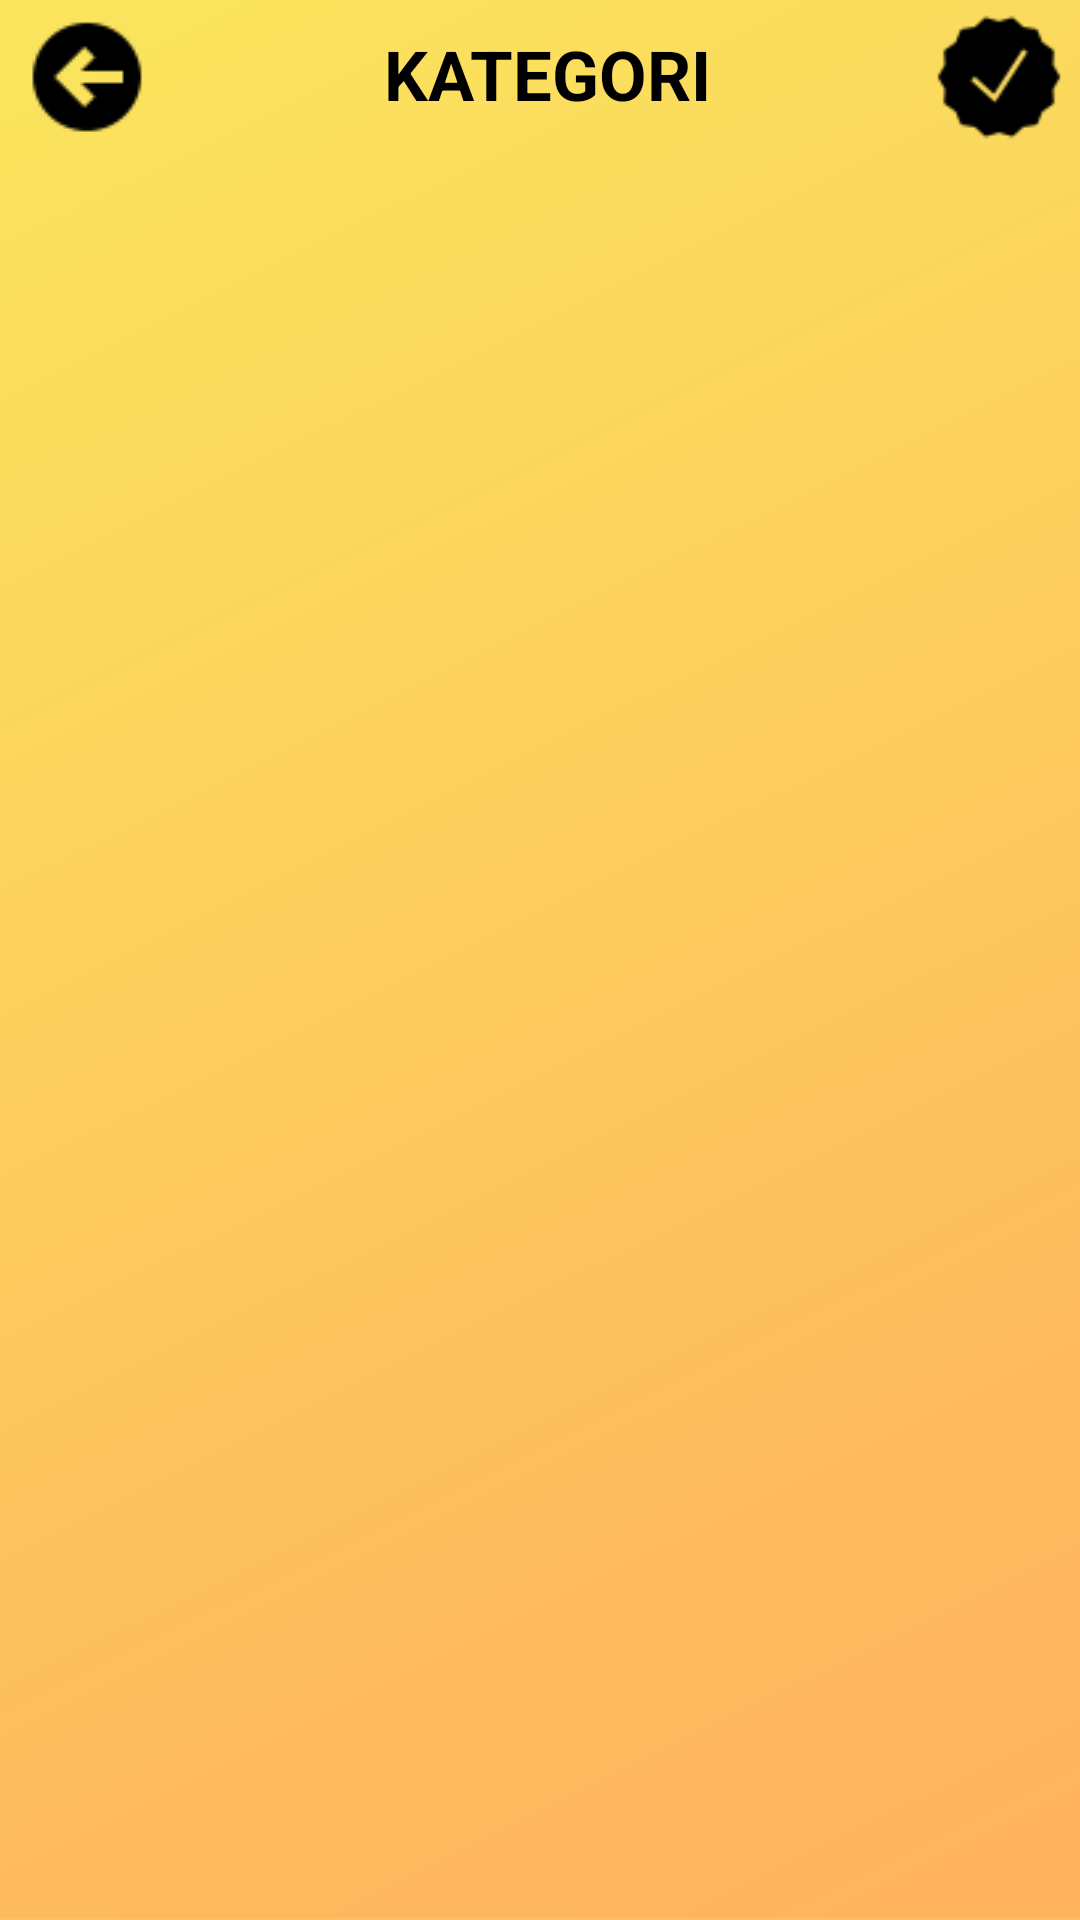

Icon bounding boxes for this 1080*1920 phone screenshot, format (x1, y1, x2, y2):
accept: (937, 16, 1061, 138)
backicon: (32, 22, 142, 132)
